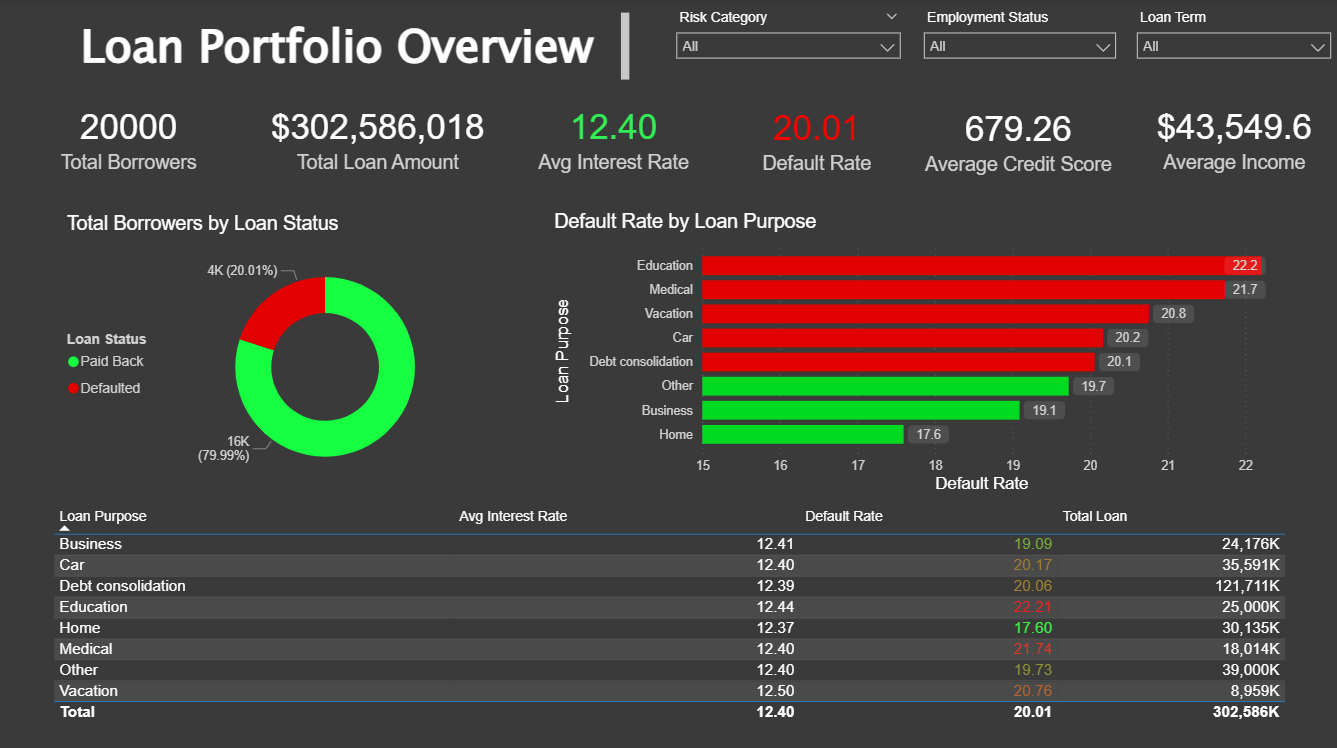

This screenshot's page, from the dashboard's own definition file:
{"tool":"powerbi","page":{"name":"Portfolio","canvas":[1280,720],"ordinal":0},"visuals":[{"type":"card","fields":{"Values":["_Measures.Total Borrowers"]},"box":[14.3,82.7,216.3,98.6],"z":0},{"type":"card","fields":{"Values":["_Measures.Total Loan Amount"]},"box":[229,82.7,262.5,98.6],"z":1000},{"type":"card","fields":{"Values":["_Measures.Avg Interest Rate"]},"box":[467.6,82.7,237,98.6],"z":2000},{"type":"card","fields":{"Values":["_Measures.Average Credit Score"]},"box":[870.1,82.7,205.2,101.8],"z":3000},{"type":"card","fields":{"Values":["_Measures.Default Rate"]},"box":[688.7,82.7,181.3,100.2],"z":4000},{"type":"card","fields":{"Values":["_Measures.Average Income"]},"box":[1075.3,82.7,205.2,98.6],"z":5000},{"type":"donutChart","fields":{"Category":["public loan_applications.Loan Status"],"Y":["_Measures.Total Borrowers"]},"box":[58.9,205.2,408.8,273.6],"z":6000},{"type":"barChart","fields":{"Category":["public loan_applications.loan_purpose"],"Y":["_Measures.Default Rate"]},"box":[524.9,203.6,691.9,273.6],"z":7000},{"type":"tableEx","fields":{"Values":["public loan_applications.loan_purpose","_Measures.Avg Interest Rate","_Measures.Default Rate","Sum(public loan_applications.loan_amt)"]},"box":[46.1,482,1186.6,224.3],"z":8000},{"type":"slicer","fields":{"Values":["public applicants.employment_status"]},"box":[871.7,6.4,203.6,76.3],"z":9000},{"type":"slicer","fields":{"Values":["public loan_applications.loan_term"]},"box":[1075.3,6.4,205.2,76.3],"z":10000},{"type":"slicer","fields":{"Values":["public loan_applications.Risk Category"]},"box":[636.2,6.4,233.8,74.8],"z":11000},{"type":"textbox","box":[71.6,8,534.4,74.8],"z":12000}]}

Visuals, with their boxes in screenshot pixels (x1, y1, x2, y2), scaled from the page's 1280x720 canvas onto the 1337x748 screenshot:
card - _Measures.Total Borrowers: (left=15, top=86, right=241, bottom=188)
card - _Measures.Total Loan Amount: (left=239, top=86, right=513, bottom=188)
card - _Measures.Avg Interest Rate: (left=488, top=86, right=736, bottom=188)
card - _Measures.Average Credit Score: (left=909, top=86, right=1123, bottom=192)
card - _Measures.Default Rate: (left=719, top=86, right=909, bottom=190)
card - _Measures.Average Income: (left=1123, top=86, right=1336, bottom=188)
donutChart - public loan_applications.Loan Status x _Measures.Total Borrowers: (left=62, top=213, right=489, bottom=497)
barChart - public loan_applications.loan_purpose x _Measures.Default Rate: (left=548, top=212, right=1271, bottom=496)
tableEx - public loan_applications.loan_purpose x _Measures.Avg Interest Rate: (left=48, top=501, right=1288, bottom=734)
slicer - public applicants.employment_status: (left=911, top=7, right=1123, bottom=86)
slicer - public loan_applications.loan_term: (left=1123, top=7, right=1336, bottom=86)
slicer - public loan_applications.Risk Category: (left=665, top=7, right=909, bottom=84)
textbox: (left=75, top=8, right=633, bottom=86)
